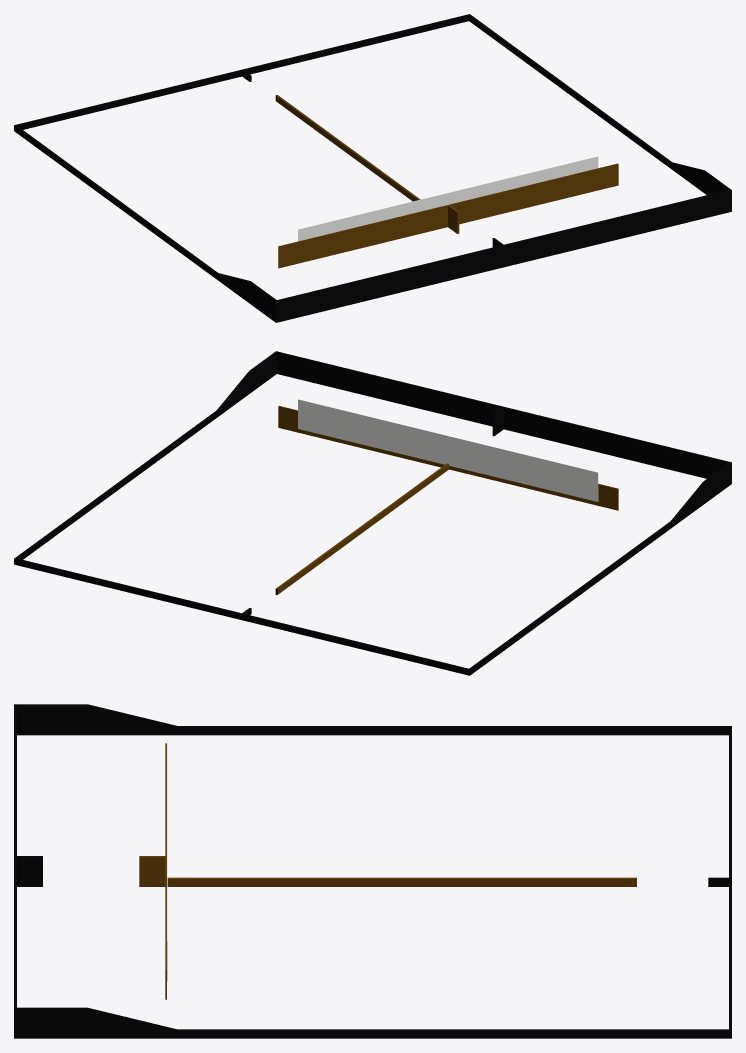
File: walls.obj
3 renders of one model, top to bottom at view 1: azimuth 30°, elevation 25°; view 2: azimuth 150°, elevation 25°; view 3: azimuth 270°, elevation 25°, orthographic. The views are drawn at different scales.
Parts seen in each view (by area): view 1: Boundry, Partition, Acrylic Cover; view 2: Boundry, Acrylic Cover, Partition; view 3: Boundry, Partition.
Boxes of the visible parts, x1,y1,x2,y2 form: Boundry: [14, 14, 731, 322]; Partition: [275, 95, 618, 268]; Acrylic Cover: [298, 156, 598, 241]; Boundry: [14, 351, 731, 675]; Acrylic Cover: [298, 399, 598, 501]; Partition: [275, 406, 618, 594]; Boundry: [14, 704, 731, 1038]; Partition: [139, 743, 636, 999].
Size of the model in its own units: 12.15 by 0.85 by 12.1.
